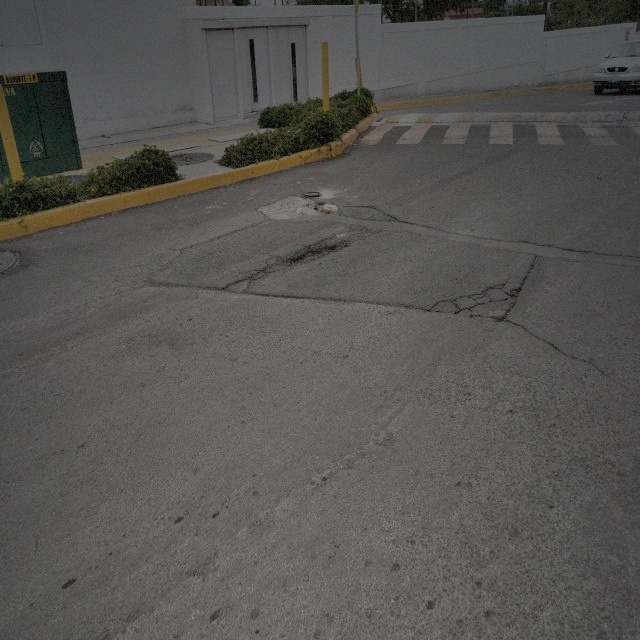pothole: (292, 238, 338, 268), (220, 276, 252, 298), (314, 201, 339, 217)
